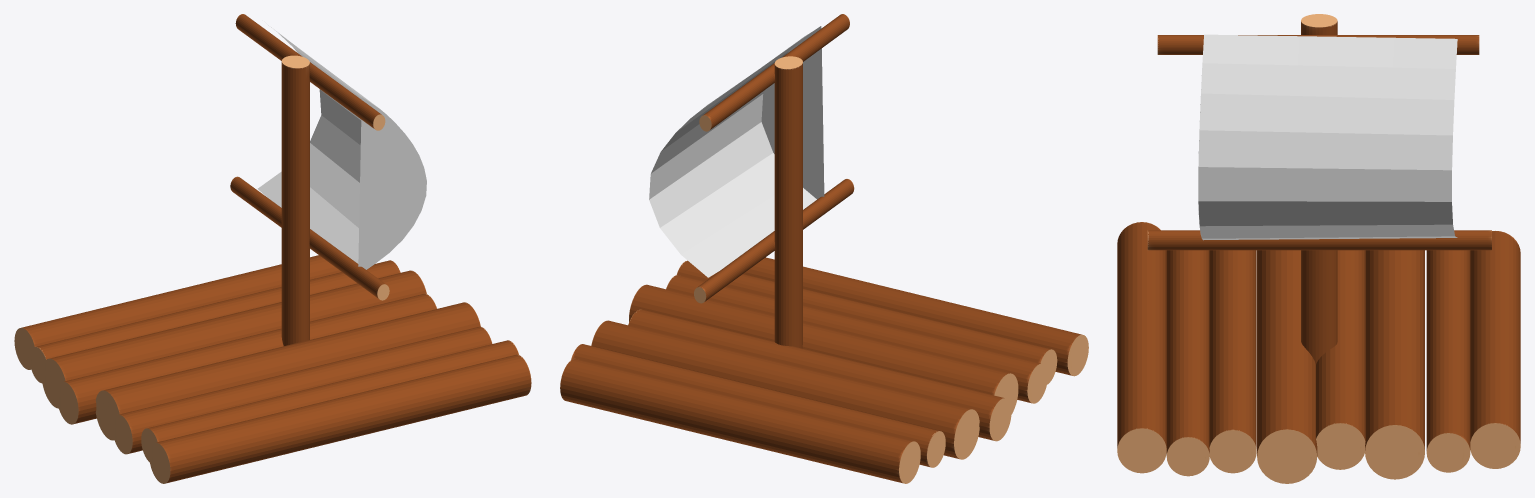
The model's file is tratwa2.fbx.
The picture shows the model from 3 angles, left to right: view 1: azimuth 30°, elevation 25°; view 2: azimuth 150°, elevation 25°; view 3: azimuth 270°, elevation 25°; orthographic projection. The views are drawn at different scales.
Parts seen in each view (by area): view 1: Cylinder, zagiel, Cylinder.003, Cylinder.005, Cylinder.002, Cylinder.008, Cylinder.004, Cylinder.007, Cylinder.001, Cylinder.006, Cylinder.010, Cylinder.009; view 2: zagiel, Cylinder.007, Cylinder.005, Cylinder.003, Cylinder.008, Cylinder.004, Cylinder, Cylinder.006, Cylinder.002, Cylinder.001, Cylinder.010, Cylinder.009; view 3: zagiel, Cylinder.005, Cylinder.003, Cylinder, Cylinder.007, Cylinder.002, Cylinder.006, Cylinder.001, Cylinder.004, Cylinder.010, Cylinder.008, Cylinder.009.
Part boxes in pixels (x1,y1,x2,y2): Cylinder: [149, 354, 531, 483]; zagiel: [257, 25, 426, 269]; Cylinder.003: [95, 302, 480, 440]; Cylinder.005: [41, 270, 426, 408]; Cylinder.002: [112, 326, 492, 454]; Cylinder.008: [281, 55, 309, 345]; Cylinder.004: [56, 293, 436, 424]; Cylinder.007: [14, 255, 341, 369]; Cylinder.001: [141, 340, 518, 462]; Cylinder.006: [29, 260, 400, 383]; Cylinder.010: [230, 176, 389, 300]; Cylinder.009: [235, 14, 385, 130]; zagiel: [649, 26, 824, 277]; Cylinder.007: [560, 358, 920, 483]; Cylinder.005: [591, 320, 979, 459]; Cylinder.003: [629, 284, 1018, 414]; Cylinder.008: [774, 56, 802, 348]; Cylinder.004: [628, 309, 1011, 441]; Cylinder: [743, 257, 1088, 376]; Cylinder.006: [571, 344, 945, 467]; Cylinder.002: [666, 275, 1047, 403]; Cylinder.001: [676, 260, 1057, 384]; Cylinder.010: [694, 179, 854, 303]; Cylinder.009: [699, 14, 849, 131]; zagiel: [1198, 34, 1457, 240]; Cylinder.005: [1365, 250, 1424, 479]; Cylinder.003: [1257, 250, 1317, 483]; Cylinder: [1117, 222, 1166, 473]; Cylinder.007: [1470, 231, 1520, 468]; Cylinder.002: [1209, 250, 1256, 473]; Cylinder.006: [1426, 250, 1470, 472]; Cylinder.001: [1166, 250, 1209, 476]; Cylinder.004: [1316, 250, 1365, 469]; Cylinder.010: [1147, 230, 1491, 250]; Cylinder.008: [1301, 14, 1337, 363]; Cylinder.009: [1157, 35, 1479, 54].
Size of the model in its own units: 344 by 275 by 271.
